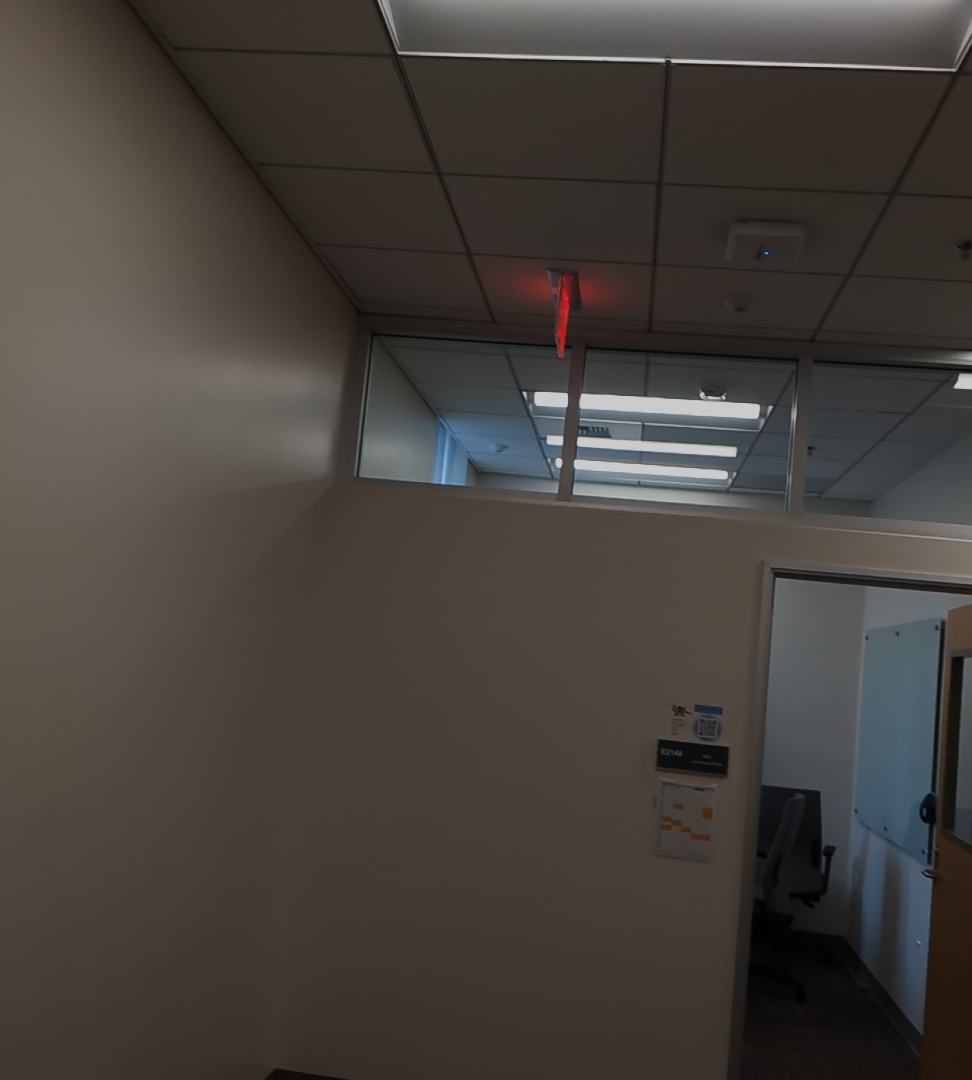emergency_exit: (652, 777, 718, 863), (654, 736, 731, 777)
